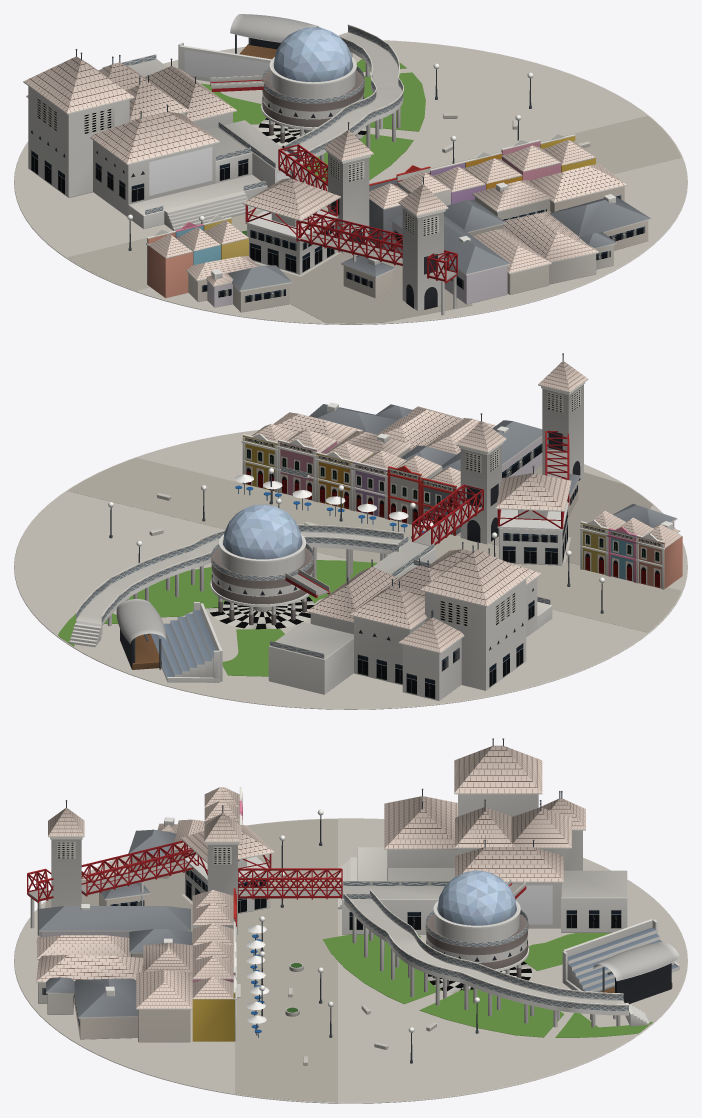
Rendered from dragaoDoMar-pecas.glb.
3 renders of one model, top to bottom at view 1: azimuth 30°, elevation 25°; view 2: azimuth 150°, elevation 25°; view 3: azimuth 270°, elevation 25°, orthographic.
Parts seen in each view (by area): view 1: Casaroes, Chao_Praca, Museu_Dragao, Torres_Passarelas, Chao_Pisos, Planetario, Rampa_Curva, Anfiteatro, Mobiliario_Praca; view 2: Chao_Praca, Museu_Dragao, Casaroes, Chao_Pisos, Torres_Passarelas, Planetario, Rampa_Curva, Anfiteatro, Mobiliario_Praca; view 3: Chao_Praca, Chao_Pisos, Museu_Dragao, Casaroes, Torres_Passarelas, Rampa_Curva, Planetario, Anfiteatro, Mobiliario_Praca.
Part boxes in pixels (x1,y1,x2,y2): Casaroes: (146, 133, 651, 312); Chao_Praca: (14, 40, 687, 324); Museu_Dragao: (23, 49, 302, 230); Torres_Passarelas: (242, 122, 457, 315); Chao_Pisos: (68, 59, 681, 323); Planetario: (210, 27, 366, 147); Rampa_Curva: (284, 24, 403, 173); Anfiteatro: (178, 14, 318, 81); Mobiliario_Praca: (127, 63, 590, 250); Chao_Praca: (14, 430, 687, 709); Museu_Dragao: (268, 536, 552, 700); Casaroes: (241, 402, 682, 589); Chao_Pisos: (58, 457, 680, 676); Torres_Passarelas: (412, 353, 588, 565); Planetario: (208, 504, 329, 629); Rampa_Curva: (69, 524, 403, 647); Anfiteatro: (116, 599, 222, 682); Mobiliario_Praca: (108, 468, 604, 613); Chao_Praca: (14, 818, 687, 1103); Chao_Pisos: (36, 819, 652, 1102); Museu_Dragao: (338, 738, 627, 934); Casaroes: (36, 787, 242, 1042); Torres_Passarelas: (27, 800, 342, 935); Rampa_Curva: (343, 889, 649, 1027); Planetario: (425, 870, 531, 993); Anfiteatro: (562, 919, 679, 1003); Mobiliario_Praca: (245, 809, 479, 1065).
Bounding box in the file's own units: 66.8 × 13.94 × 66.8.
27 materials, 4 textured.
